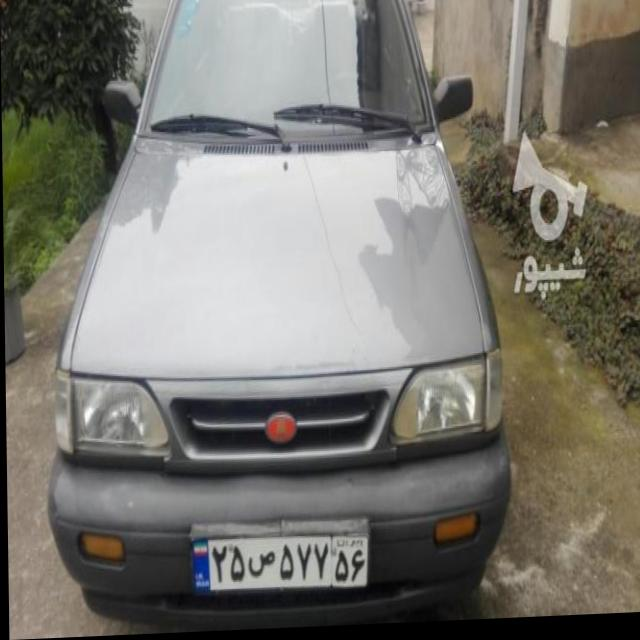licence: (185, 516, 370, 599)
